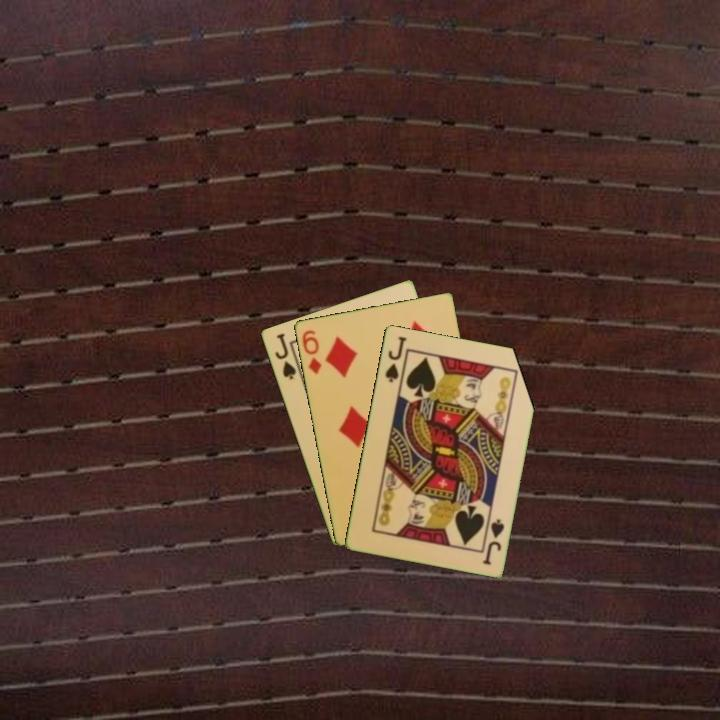6d: (298, 326, 324, 377)
Js: (271, 329, 299, 382), (381, 332, 409, 385), (479, 515, 507, 567)
